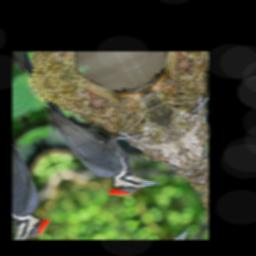Woodpecker: (33, 73, 170, 212)
